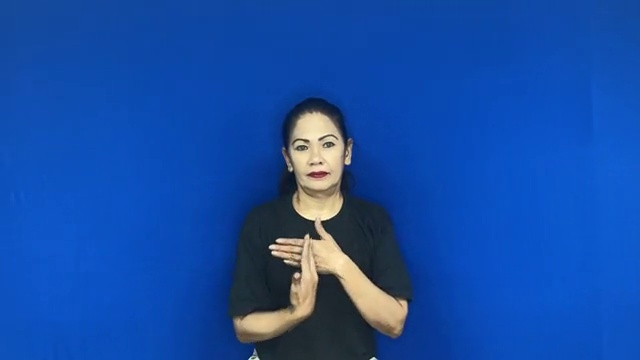bread: (260, 213, 345, 319)
